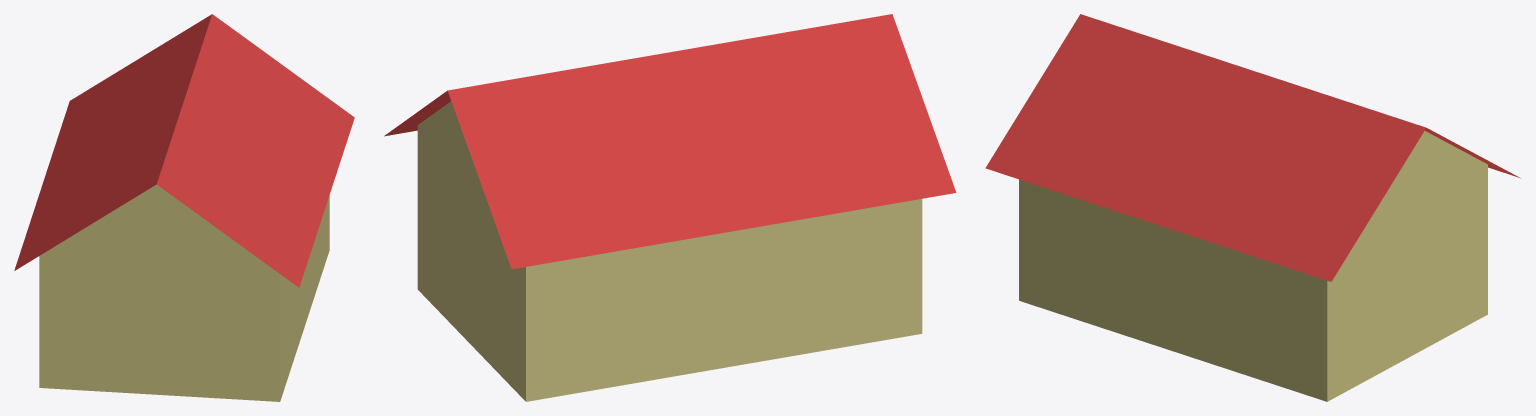
3 views of the same model, side by side, from view 1: azimuth 30°, elevation 25°; view 2: azimuth 150°, elevation 25°; view 3: azimuth 270°, elevation 25° (orthographic). The views are drawn at different scales.
Visible parts, largest first — view 1: group_3, group_5, group_4; view 2: group_3, group_5, group_4; view 3: group_5, group_3, group_4.
Boxes of the visible parts, x1,y1,x2,y2 form: group_3: (14, 14, 354, 287); group_5: (39, 184, 329, 401); group_4: (157, 14, 211, 192); group_3: (448, 14, 956, 269); group_5: (417, 101, 922, 401); group_4: (384, 86, 493, 211); group_5: (1019, 131, 1487, 401); group_3: (985, 14, 1439, 281); group_4: (1080, 14, 1520, 178).
Size of the model in its own units: 21.38 by 22.32 by 10.87.
